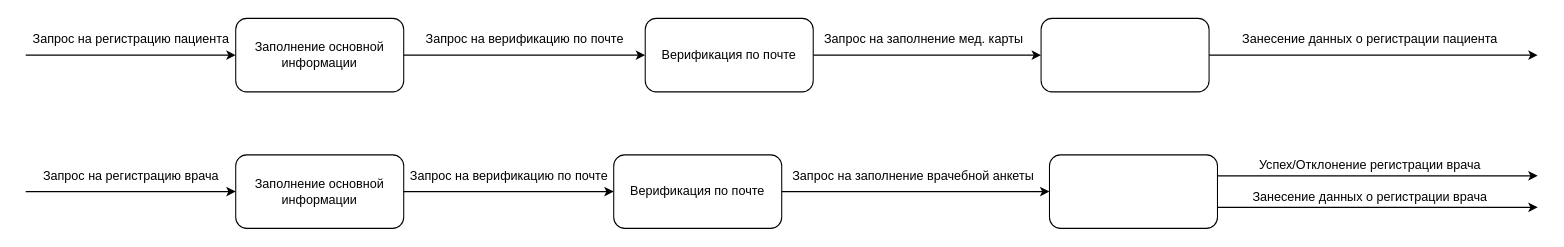
Some shapes in this 1564 by 247 pixel diagram are drawn without their labels. The centre of each missing label's shape, as x and y in pixels:
Заполнение врачебной анкеты: the point at 1132,191
Заполнение мед. карты: the point at 1124,54
